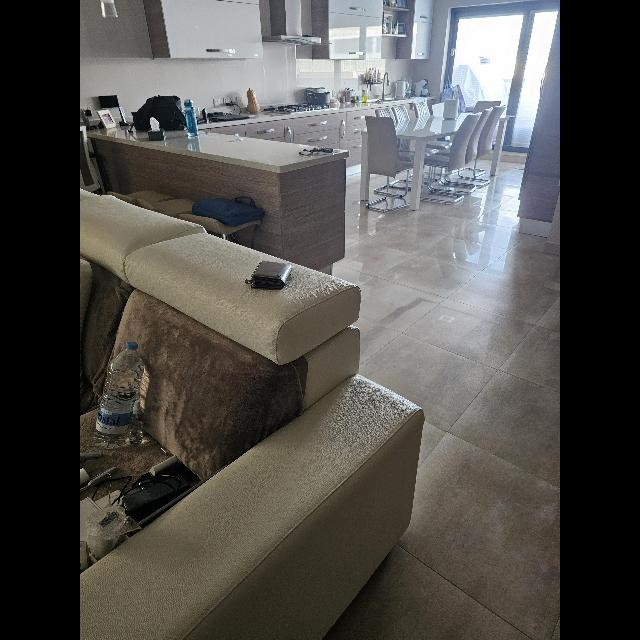Wallet: (248, 260, 292, 290)
